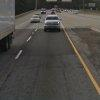Car: (40, 10, 65, 39)
